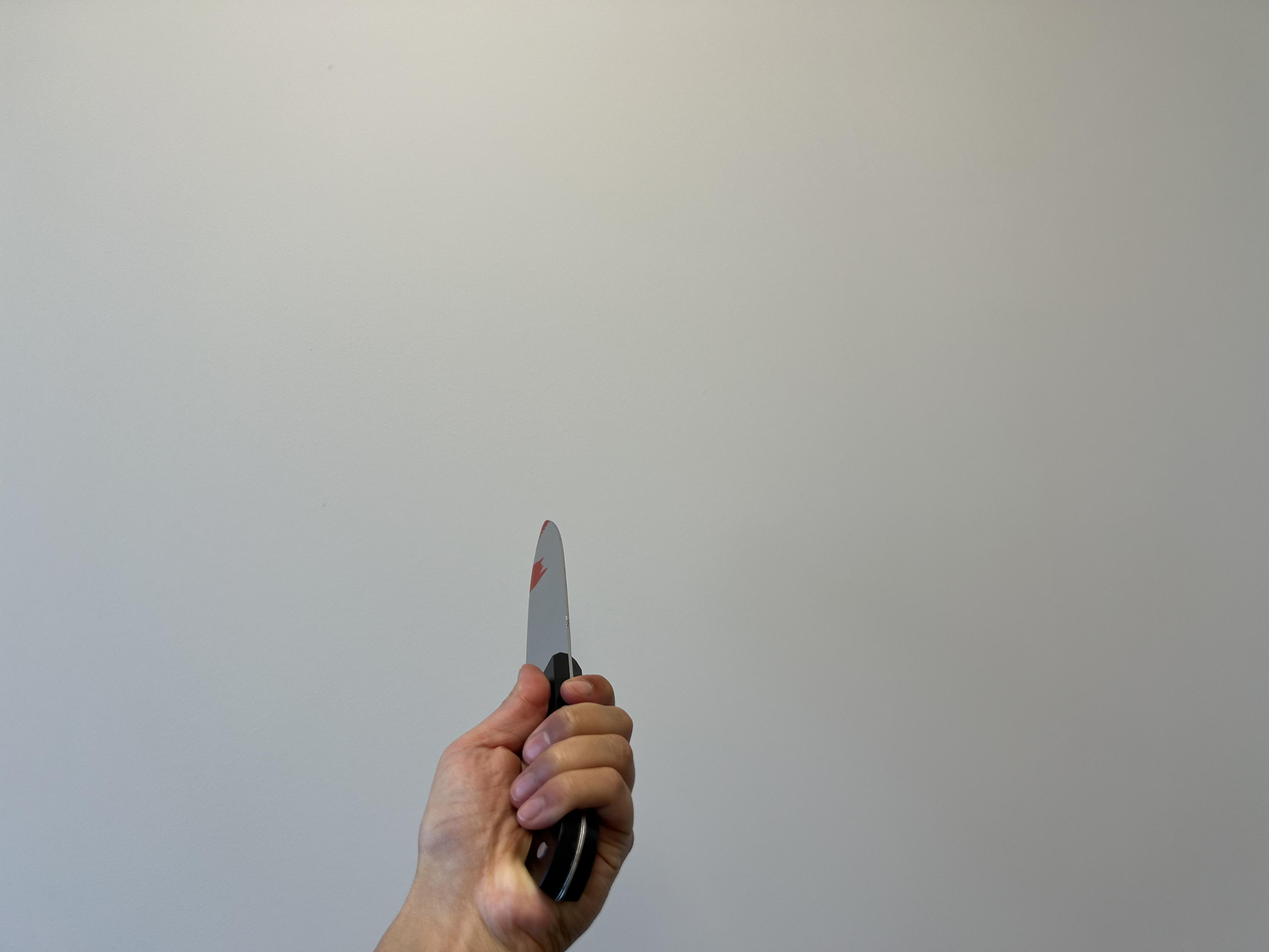Knife: (412, 667, 635, 952), (422, 666, 635, 952), (527, 519, 582, 705)
